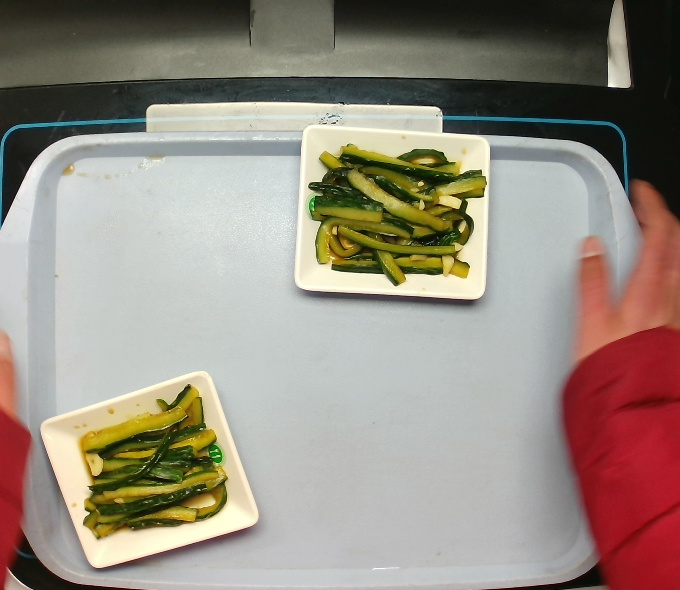wcq-LiangBanHuangGua: (307, 141, 489, 290), (74, 379, 234, 543)
